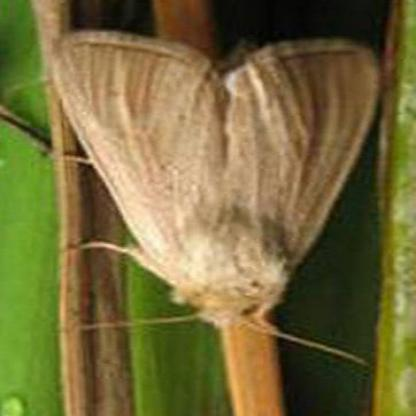stem-borer: (45, 28, 382, 368)
